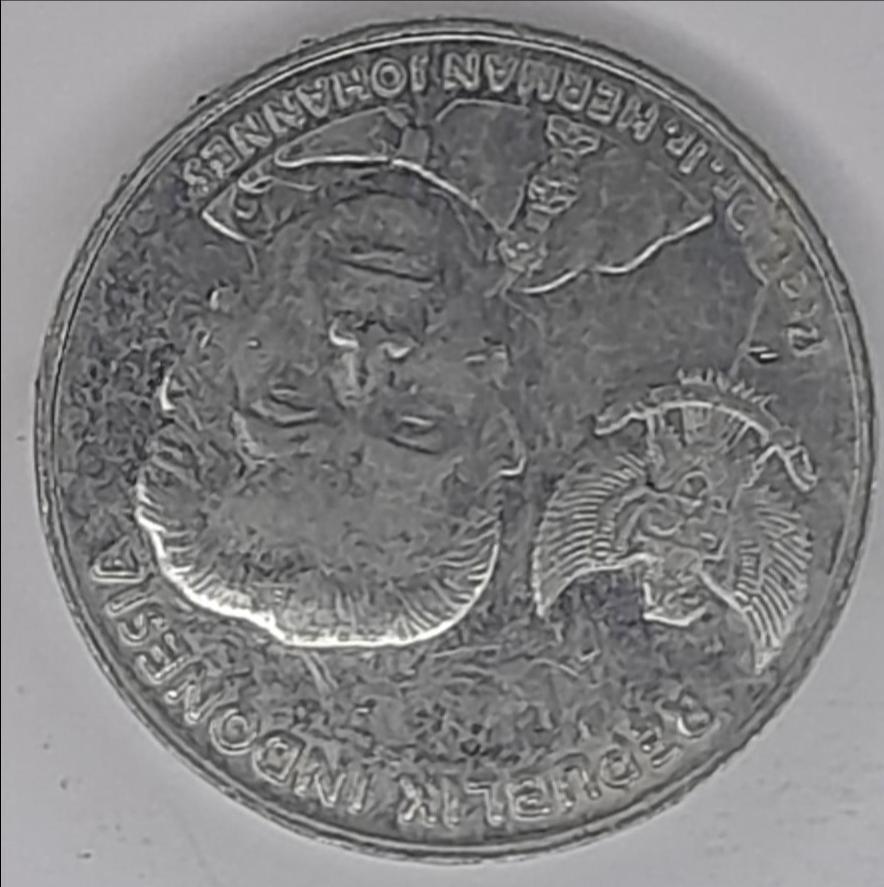coin_100_e2016: (26, 9, 882, 866)
